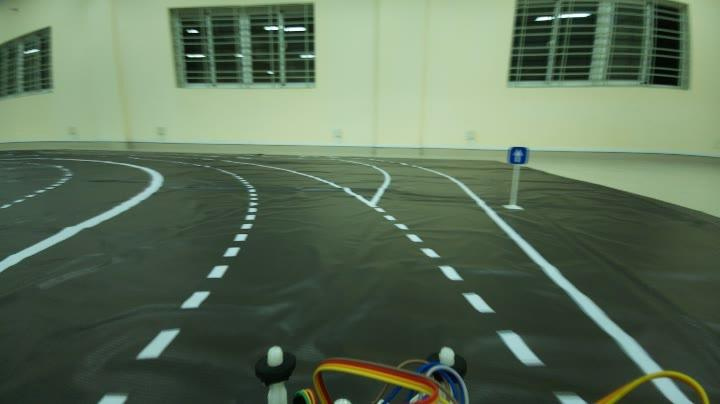onewayroad: (503, 142, 531, 170)
